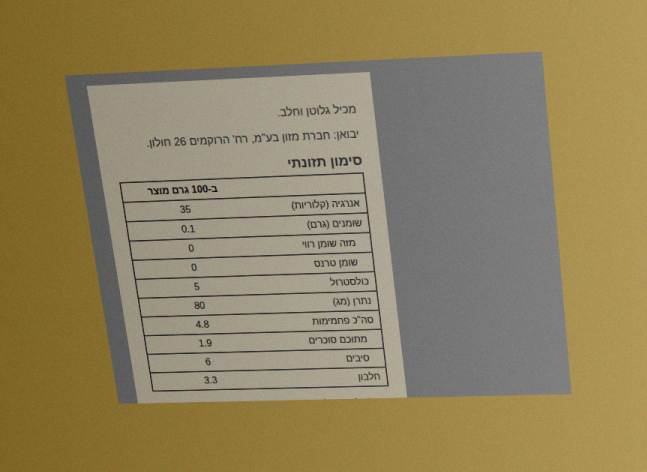carbs: (194, 318, 211, 331)
energy: (178, 203, 193, 216)
fat: (179, 222, 197, 236)
protein: (202, 374, 219, 386)
